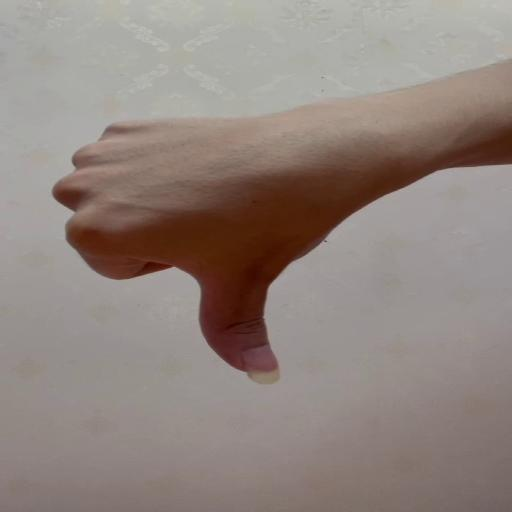thumbs_down: (53, 115, 373, 386)
